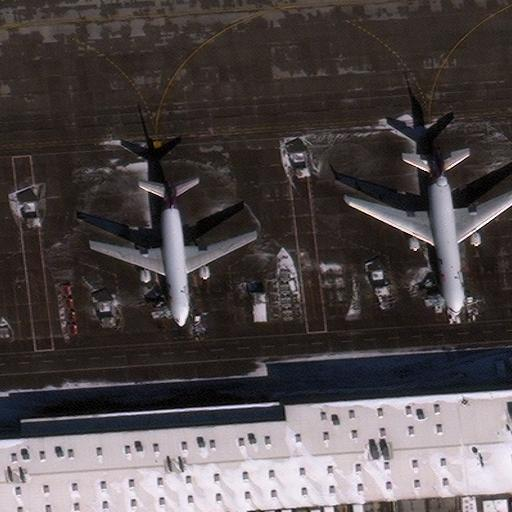Large Civil Transport: (344, 148, 512, 317), (92, 183, 251, 325)
